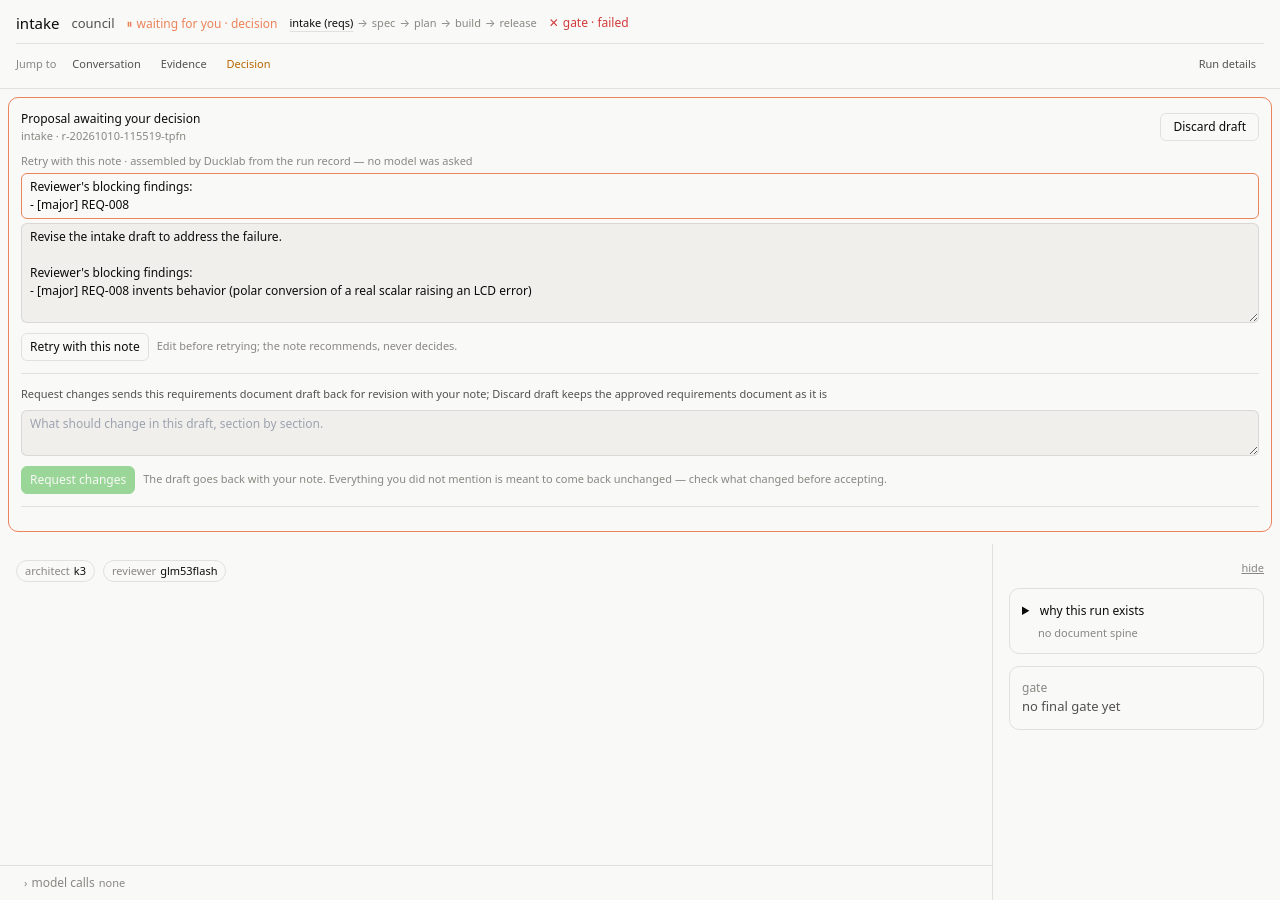
Test: RunView — Retry with this note goes through the run's own door › shows a refused stage revision too
Click the button "Retry with this note" at (85, 346), box [21,332,149,360]
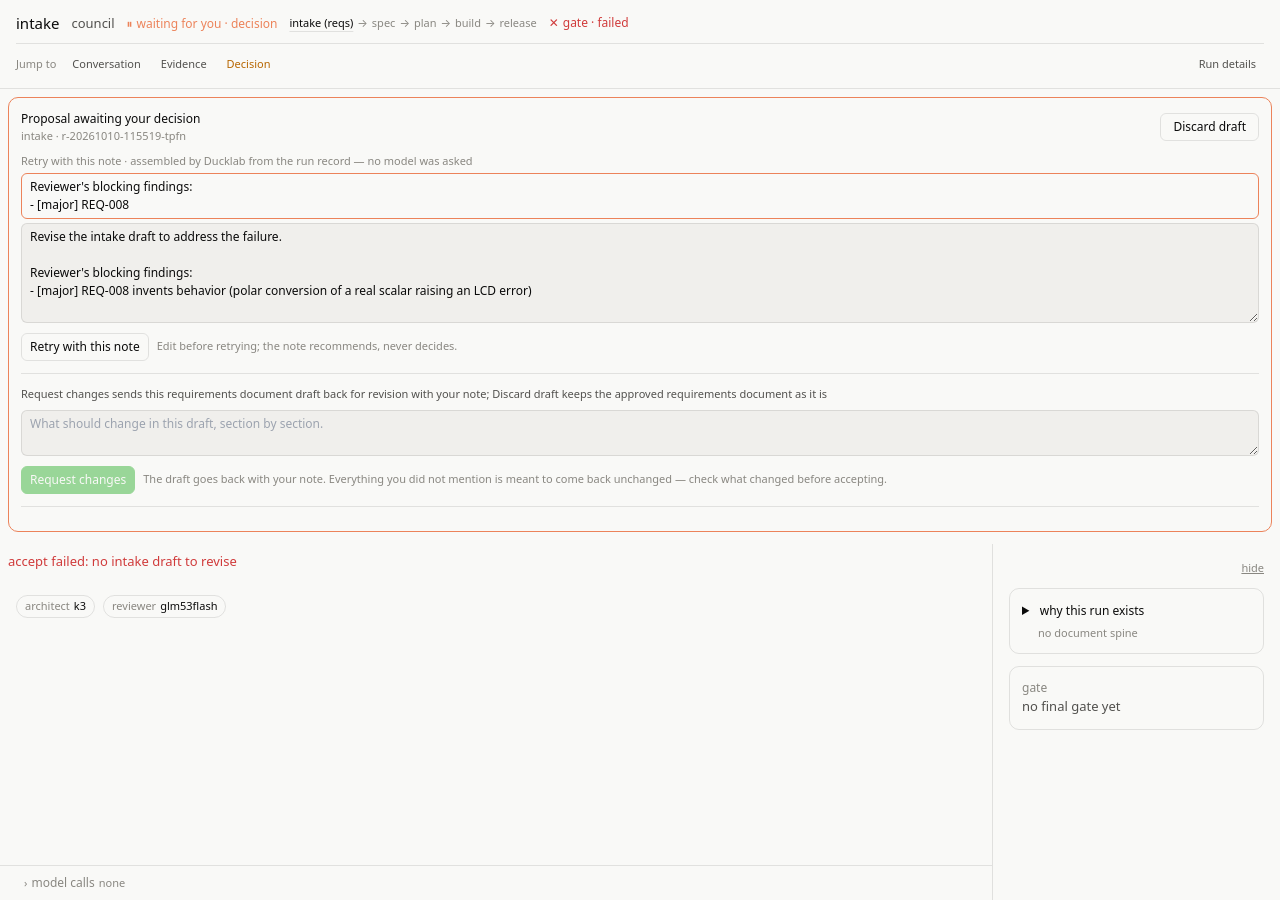
Result: the text "accept failed: no intake draft to revise" is shown at [8,552,237,570]
